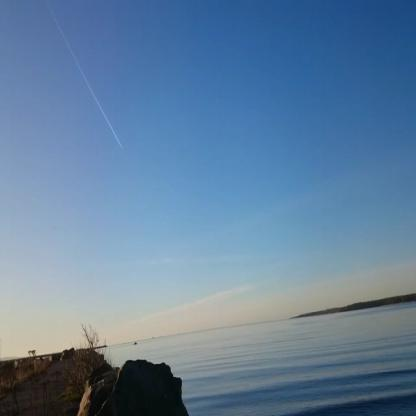CIV_Plane: (116, 139, 124, 153)
